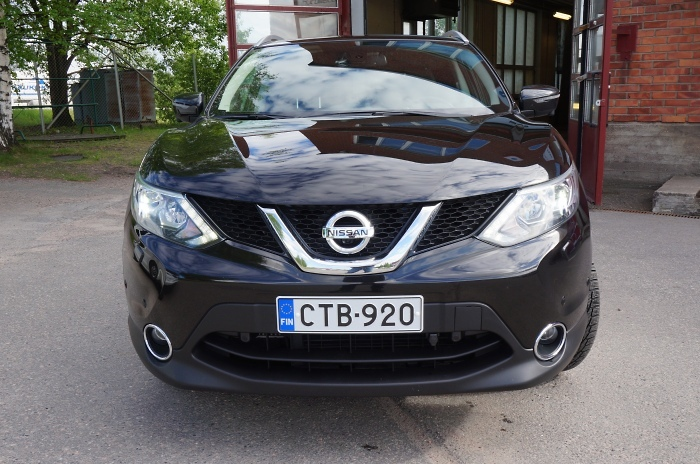license: (274, 291, 424, 333)
